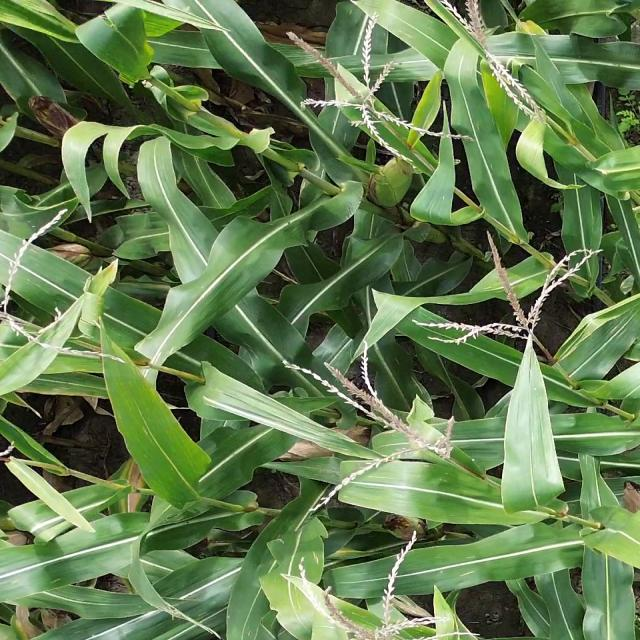gray-leaf-spot: (292, 549, 322, 614), (480, 154, 520, 200), (366, 59, 427, 83), (4, 0, 56, 25), (440, 552, 484, 578), (330, 126, 361, 152), (575, 449, 605, 474)
southern-leaf-blight: (21, 268, 70, 301)
